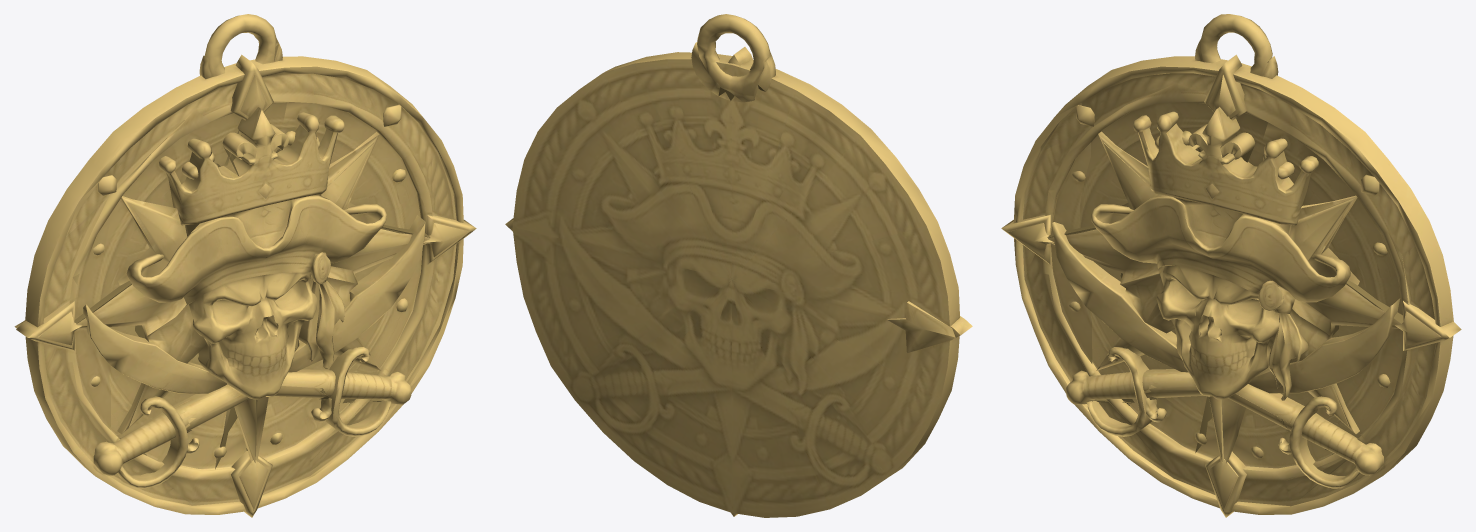
The model's file is golden_korsan.glb.
The picture shows the model from 3 angles, left to right: view 1: azimuth 30°, elevation 25°; view 2: azimuth 150°, elevation 25°; view 3: azimuth 330°, elevation 25°; orthographic projection.
Parts seen in each view (by area): view 1: golden_korsan_AO_candidate; view 2: golden_korsan_AO_candidate; view 3: golden_korsan_AO_candidate.
Part boxes in pixels (left/top/right/bottom): golden_korsan_AO_candidate: left=14, top=14, right=476, bottom=517; golden_korsan_AO_candidate: left=505, top=14, right=972, bottom=517; golden_korsan_AO_candidate: left=1001, top=14, right=1461, bottom=517.
Size of the model in its own units: 0.9492 by 1 by 0.1226.
Materials: 1 (1 with a texture image).
